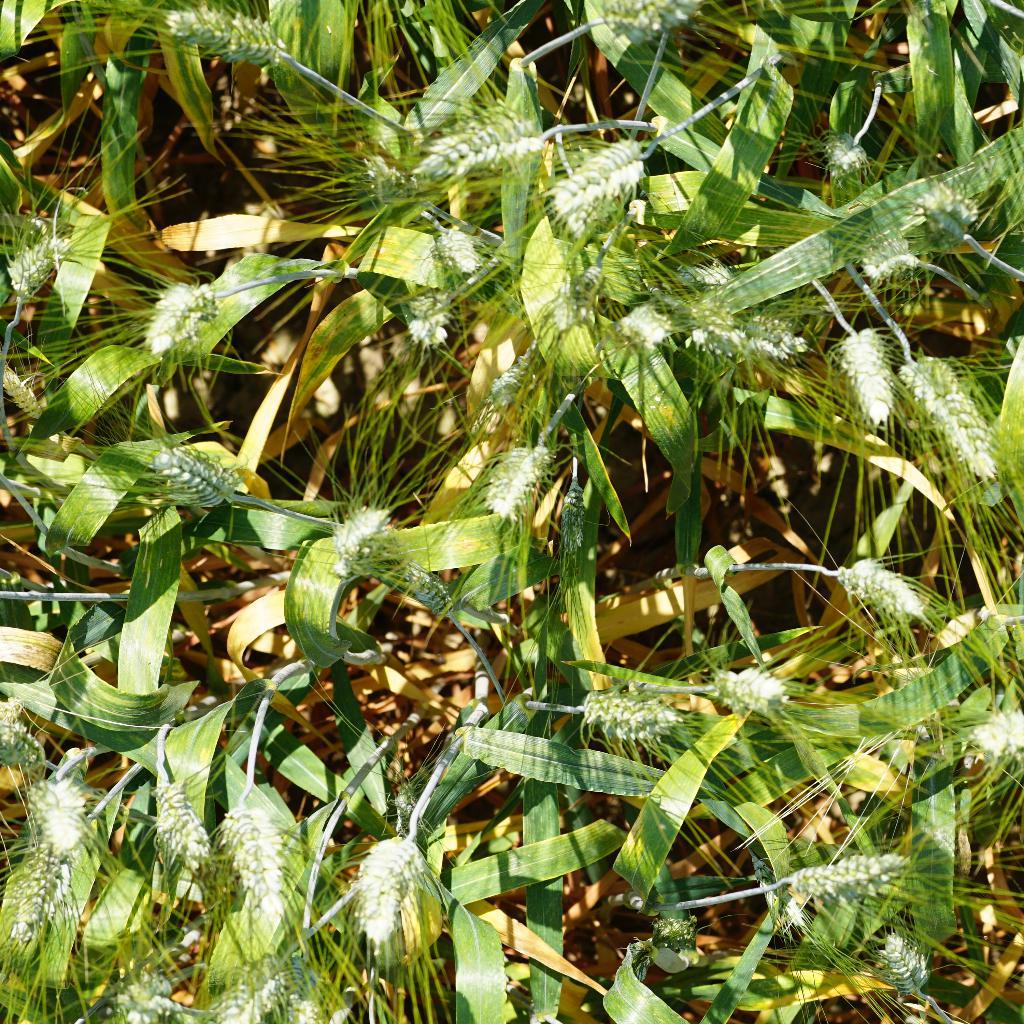0-0: (890, 346, 1019, 494), (340, 817, 441, 970), (213, 781, 298, 920), (541, 138, 673, 227), (822, 535, 930, 639), (0, 198, 92, 316), (395, 107, 541, 178), (152, 0, 294, 67), (467, 432, 560, 530), (854, 915, 946, 1013), (686, 299, 810, 370), (900, 172, 1002, 254), (17, 759, 105, 852), (8, 829, 74, 953), (133, 438, 239, 515), (144, 774, 215, 886), (144, 271, 223, 366), (826, 324, 897, 425), (707, 656, 800, 731), (765, 845, 870, 909), (316, 501, 395, 586), (546, 478, 598, 604), (575, 686, 672, 752), (385, 556, 468, 630), (385, 283, 462, 362), (419, 217, 497, 291), (849, 221, 926, 295), (840, 838, 935, 894), (354, 138, 429, 208), (800, 131, 881, 194), (474, 348, 541, 422), (261, 970, 352, 1024), (553, 256, 613, 336), (0, 364, 67, 433), (671, 249, 751, 306), (104, 971, 190, 1024), (960, 703, 1024, 772), (609, 298, 675, 362), (604, 2, 703, 43), (638, 904, 707, 956), (384, 774, 434, 843), (206, 975, 265, 1024)
